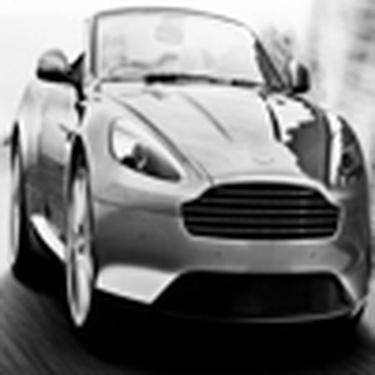car: (5, 2, 371, 360)
